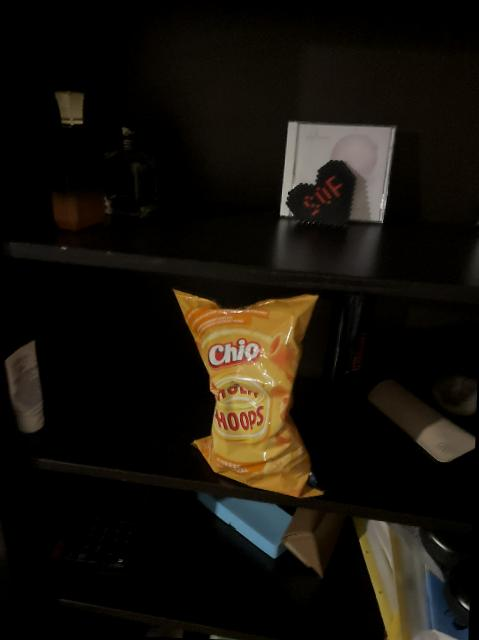Chio Hula Hoops Cheese 70g: (166, 292, 329, 493)
